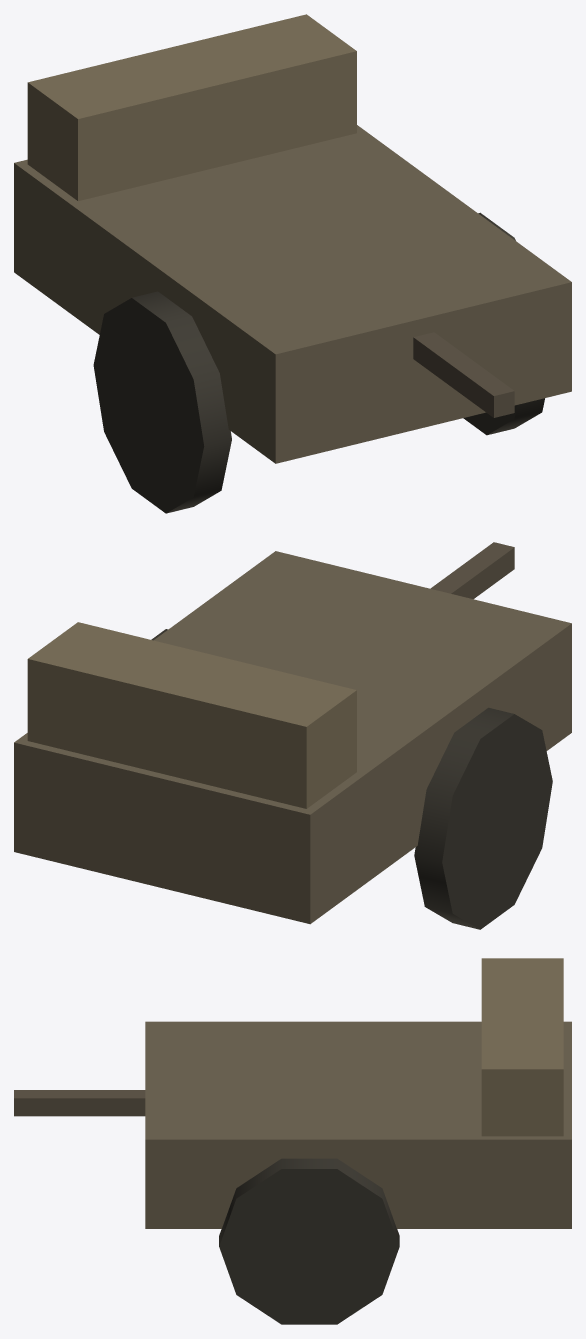
File: cart.glb
The picture shows the model from 3 angles, top to bottom: view 1: azimuth 30°, elevation 25°; view 2: azimuth 150°, elevation 25°; view 3: azimuth 270°, elevation 25°; orthographic projection. The views are drawn at different scales.
Visible parts, largest first — view 1: cart; view 2: cart; view 3: cart.
Boxes of the visible parts, x1=… form: cart: x1=14, y1=14, x2=571, y2=513; cart: x1=14, y1=542, x2=571, y2=929; cart: x1=14, y1=958, x2=571, y2=1324.
Bounding box in the file's own units: 2 × 1.62 × 3.4.
